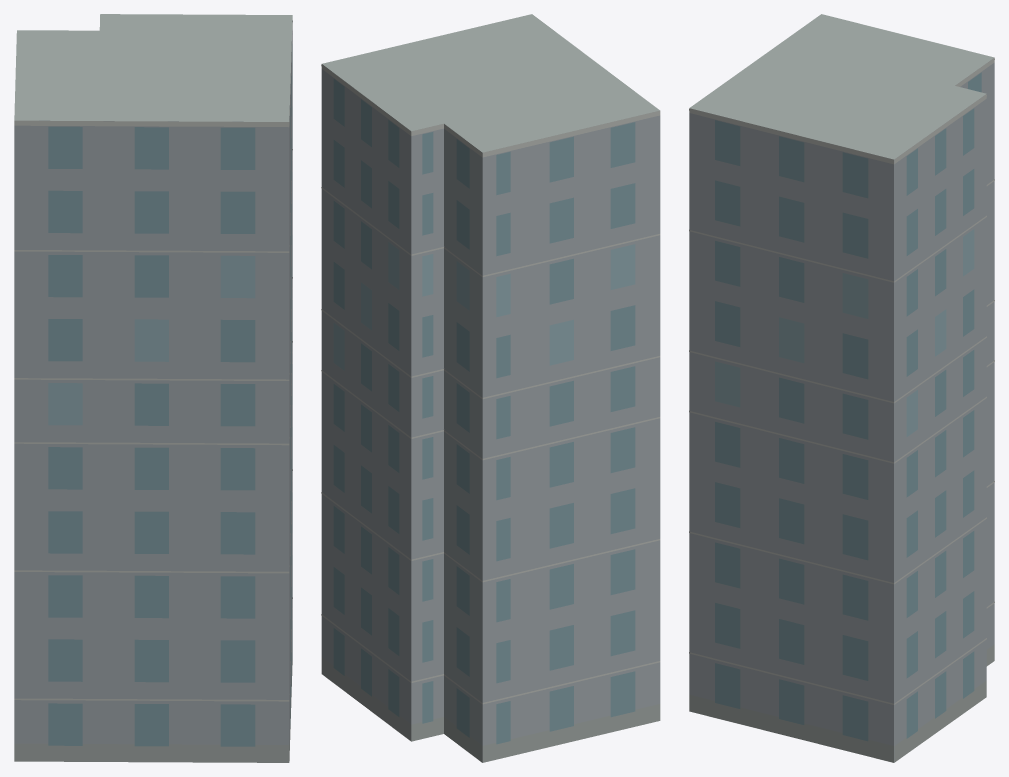
The model's file is residential-83c37445-b5f0-4a0a-ab36-5776a18d527c.glb.
3 views of the same model, side by side, from view 1: azimuth 30°, elevation 25°; view 2: azimuth 150°, elevation 25°; view 3: azimuth 270°, elevation 25° (orthographic). The views are drawn at different scales.
Parts seen in each view (by area): view 1: residential-83c37445-b5f0-4a0a-ab36-5776a18d527c.tmp; view 2: residential-83c37445-b5f0-4a0a-ab36-5776a18d527c.tmp; view 3: residential-83c37445-b5f0-4a0a-ab36-5776a18d527c.tmp.
Boxes of the visible parts, left/top/right/bottom form: residential-83c37445-b5f0-4a0a-ab36-5776a18d527c.tmp: left=14, top=14, right=292, bottom=762; residential-83c37445-b5f0-4a0a-ab36-5776a18d527c.tmp: left=321, top=14, right=660, bottom=762; residential-83c37445-b5f0-4a0a-ab36-5776a18d527c.tmp: left=689, top=14, right=994, bottom=762.
Bounding box in the file's own units: 15.81 × 30.5 × 14.02.
